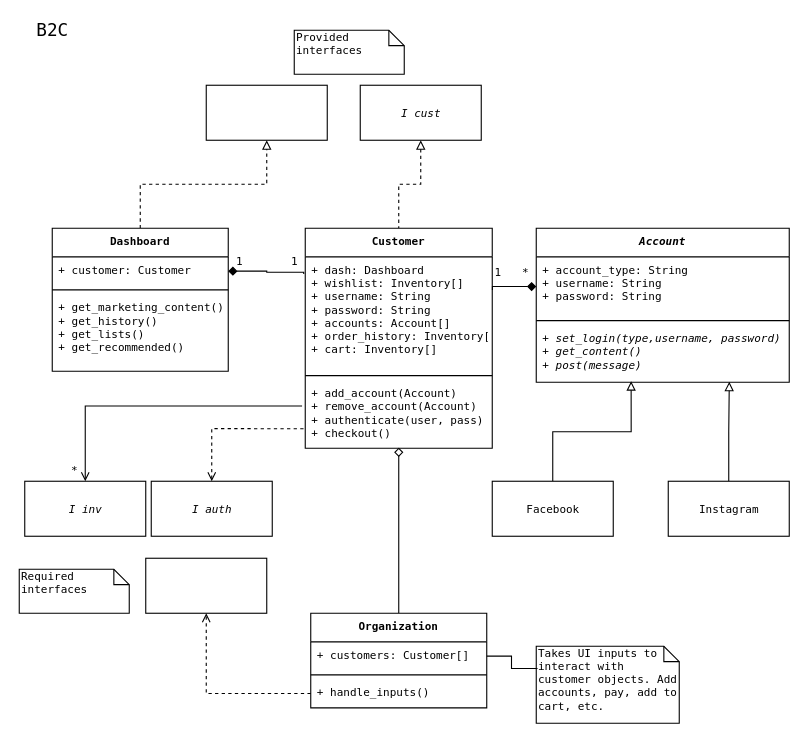
This 809x743 diagram has some shape labels left out. Here are the shapes that lost their labels. From the top down, the centre of each, then its label:
At (266,112): "I dash".
At (206,585): "I UI".
